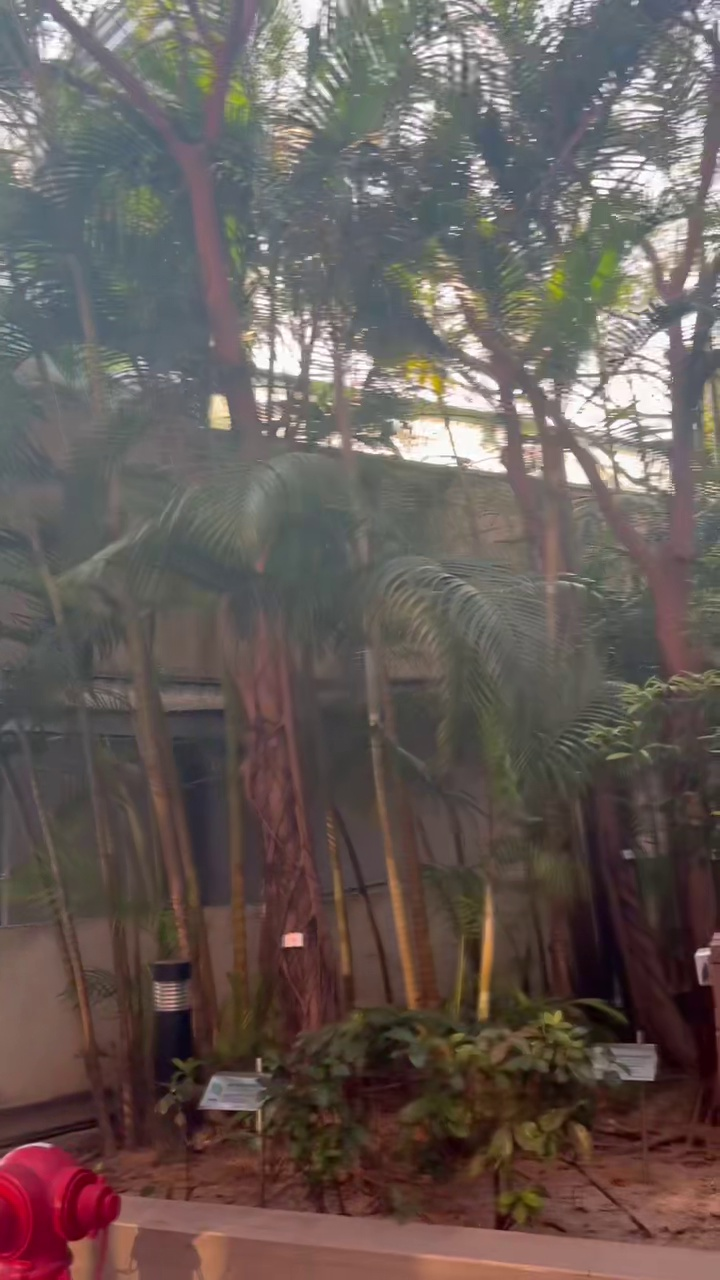Ficus benjamina: (48, 0, 338, 1037)
